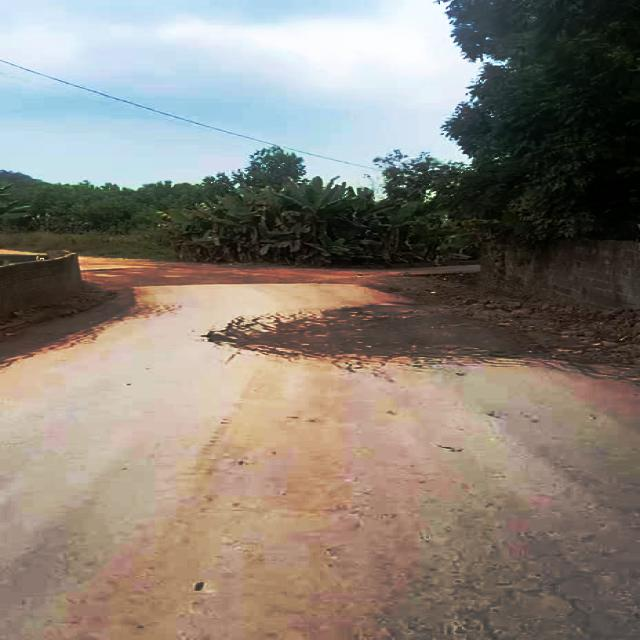pothole: (215, 299, 538, 360)
